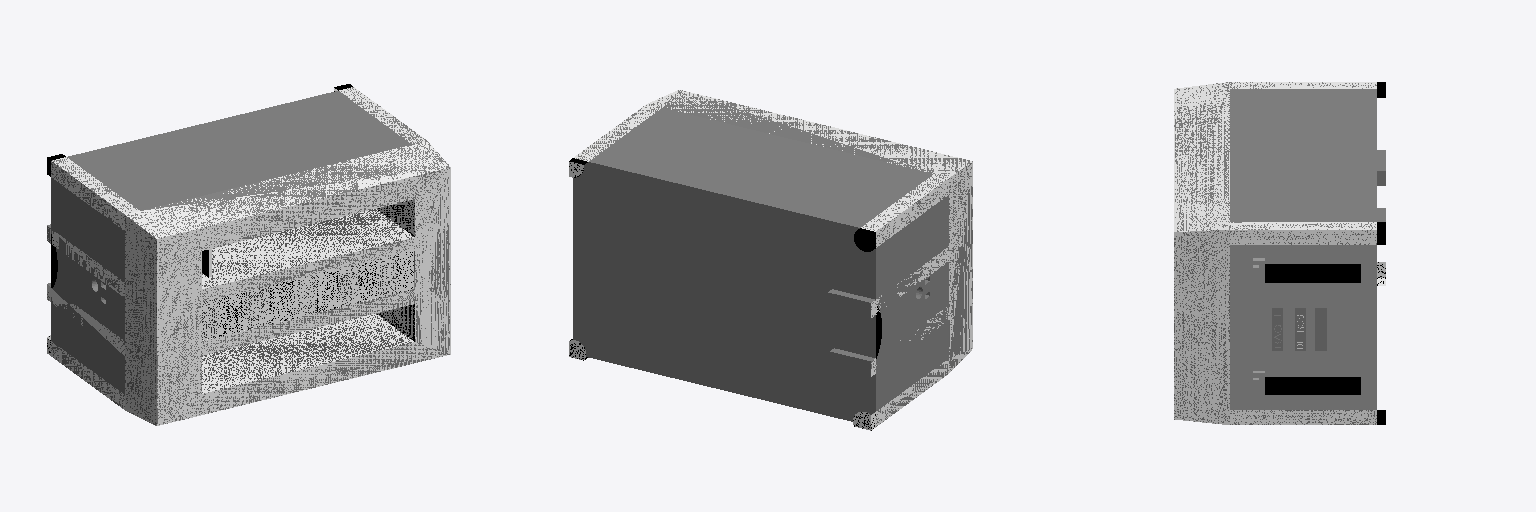
3 views of the same model, side by side, from view 1: azimuth 30°, elevation 25°; view 2: azimuth 150°, elevation 25°; view 3: azimuth 270°, elevation 25° (orthographic).
Parts seen in each view (by area): view 1: toaster; view 2: toaster; view 3: toaster.
Boxes of the visible parts, box(x1,y1,x2,y2) form: toaster: box(47, 84, 450, 425); toaster: box(569, 90, 972, 430); toaster: box(1174, 82, 1385, 424).
Bounding box in the file's own units: 19241 × 11515 × 11315.